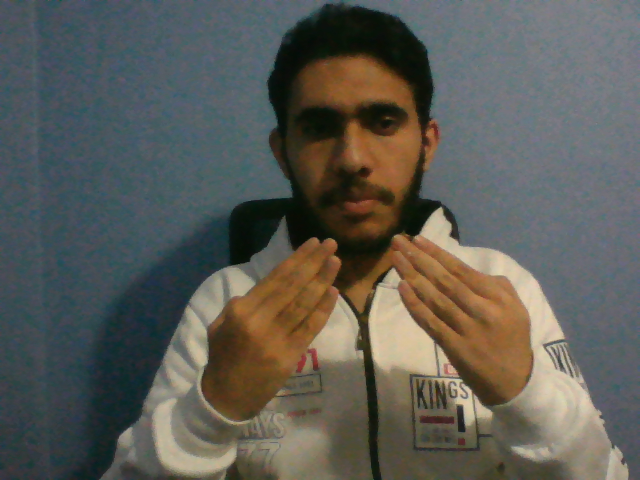thanks: (202, 227, 537, 431)
